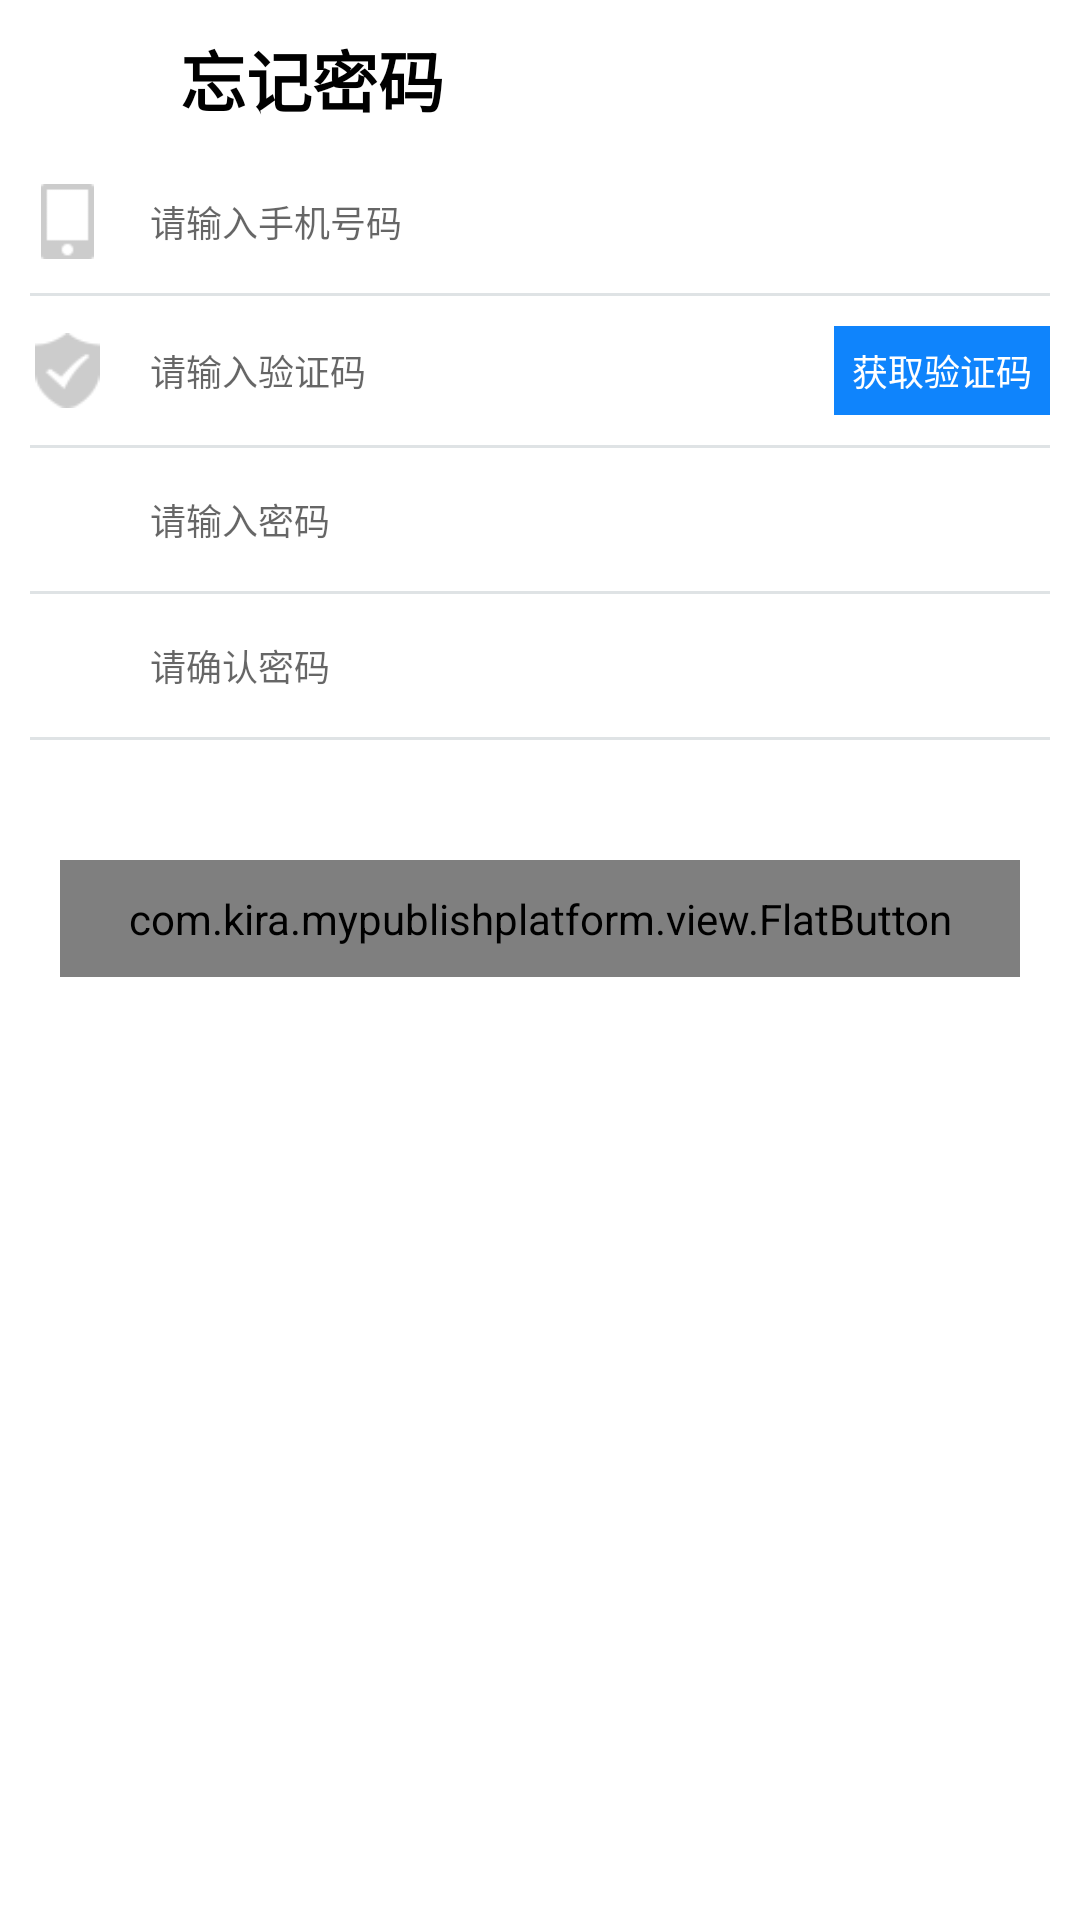

Icons on this 1080*1920 Android screen, each with the point to tap as [x,y]:
tel phone: [67,221]
verfier word: [67,370]
